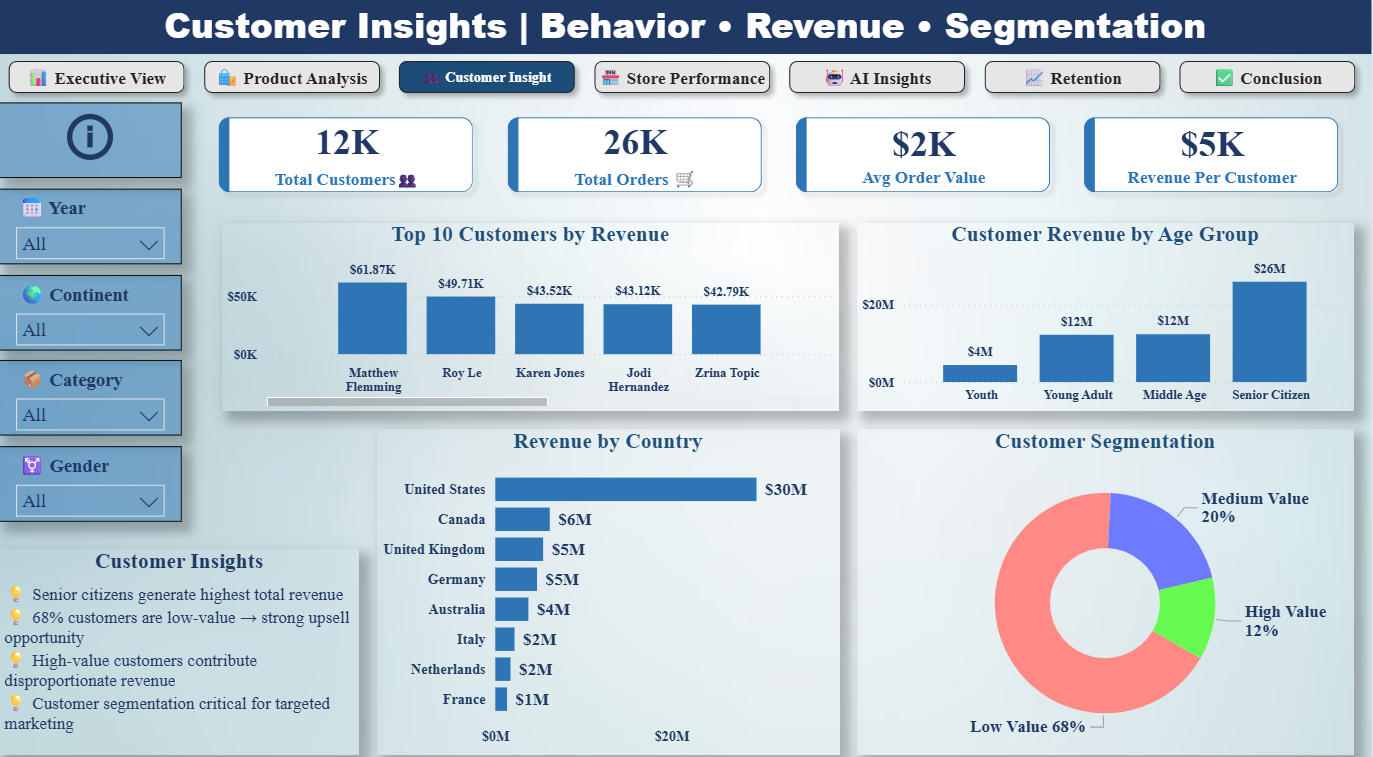

Layout of this report page (visuals, bound fields, positions):
{"tool":"powerbi","page":{"name":"👥 Customer Insight","canvas":[1280,720],"ordinal":3},"visuals":[{"type":"textbox","title":"Customer Insights | Behavior • Revenue • Segmentation","box":[0,0,1280,50],"z":0},{"type":"pageNavigator","box":[0,48,1280,48],"z":1000},{"type":"slicer","fields":{"Values":["Date Table.Year"]},"box":[0,176,170,70],"z":2000},{"type":"slicer","fields":{"Values":["Customers.Continent"]},"box":[0,256,170,70],"z":3000},{"type":"slicer","fields":{"Values":["Products.Category"]},"box":[0,336,170,70],"z":4000},{"type":"slicer","fields":{"Values":["Products.Brand"]},"box":[0,416,170,70],"z":5000},{"type":"cardVisual","fields":{"Data":["Measure.Customer Count","Measure.Total Orders","Measure.Avg Order Value","Measure.Revenue Per Customer"]},"box":[176,80,1104,128],"z":6000},{"type":"clusteredBarChart","title":"Revenue by Country","fields":{"Category":["Customers.Country"],"Y":["Measure.Total Revenue USD"]},"box":[352,400,432,304],"z":7000},{"type":"clusteredColumnChart","title":"Top 10 Customers by Revenue","fields":{"Y":["Measure.Total Revenue"],"Category":["Customers.Name"]},"box":[208,208,576,176],"z":8000},{"type":"clusteredColumnChart","title":"Customer Revenue by Age Group ","fields":{"Category":["Customers.Age Group"],"Y":["Measure.Total Revenue"]},"box":[800,208,464,176],"z":9000},{"type":"donutChart","title":"Customer Segmentation","fields":{"Y":["Measure.Customer Count"],"Category":["Customers.Customer Segment"]},"box":[800,400,464,304],"z":10000},{"type":"actionButton","box":[0,96,170,70],"z":11000},{"type":"textbox","title":"Customer Insights ","box":[0,512,336,192],"z":12000}]}

Visuals, with their boxes in screenshot pixels (x1, y1, x2, y2), scaled from the page's 1280x720 canvas onto the 1373x757 screenshot:
"Customer Insights | Behavior • Revenue • Segmentation" textbox: 0, 0, 1372, 53
pageNavigator: 0, 50, 1372, 101
slicer - Date Table.Year: 0, 185, 182, 259
slicer - Customers.Continent: 0, 269, 182, 343
slicer - Products.Category: 0, 353, 182, 427
slicer - Products.Brand: 0, 437, 182, 511
cardVisual - Measure.Customer Count x Measure.Total Orders: 189, 84, 1372, 219
"Revenue by Country" clusteredBarChart: 378, 421, 841, 740
"Top 10 Customers by Revenue" clusteredColumnChart: 223, 219, 841, 404
"Customer Revenue by Age Group " clusteredColumnChart: 858, 219, 1356, 404
"Customer Segmentation" donutChart: 858, 421, 1356, 740
actionButton: 0, 101, 182, 175
"Customer Insights " textbox: 0, 538, 360, 740
